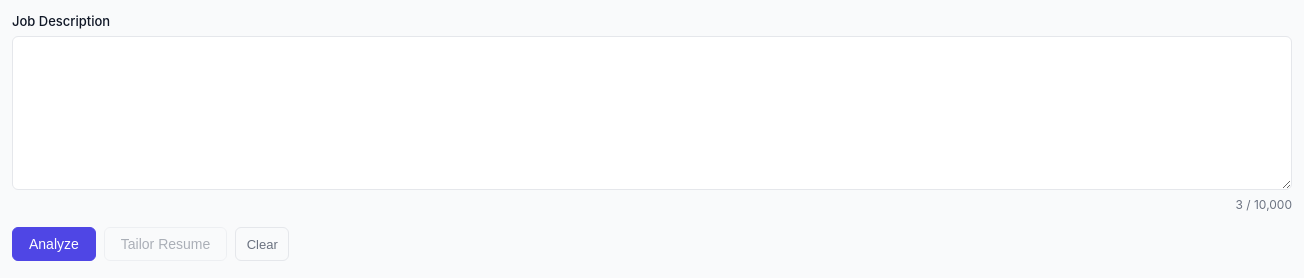
Scenario: JobDescriptionInput › shows error when Analyze clicked with blank input
Click the button "Analyze" at (54, 244), box [12,227,96,261]
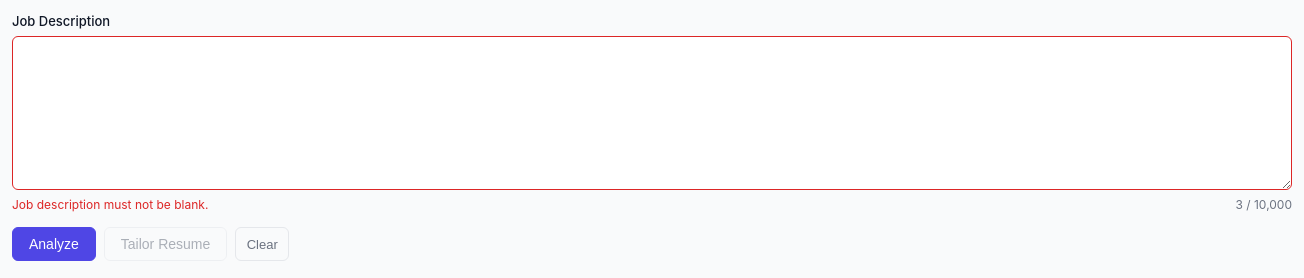
Expected: the text "Job description must not be blank" is shown, [12,197,208,212]
